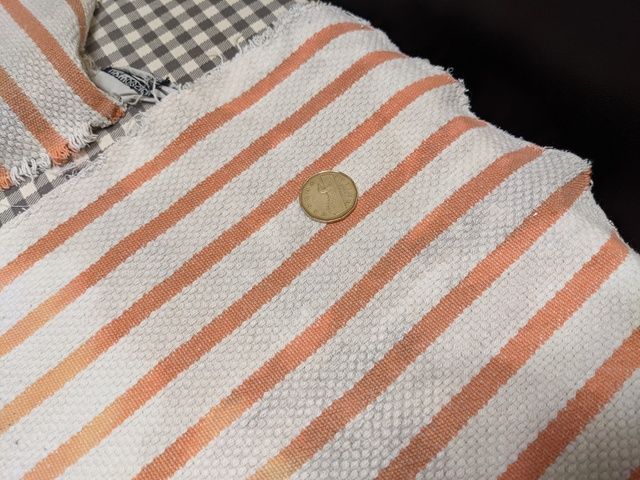loonie: (282, 163, 364, 236)
